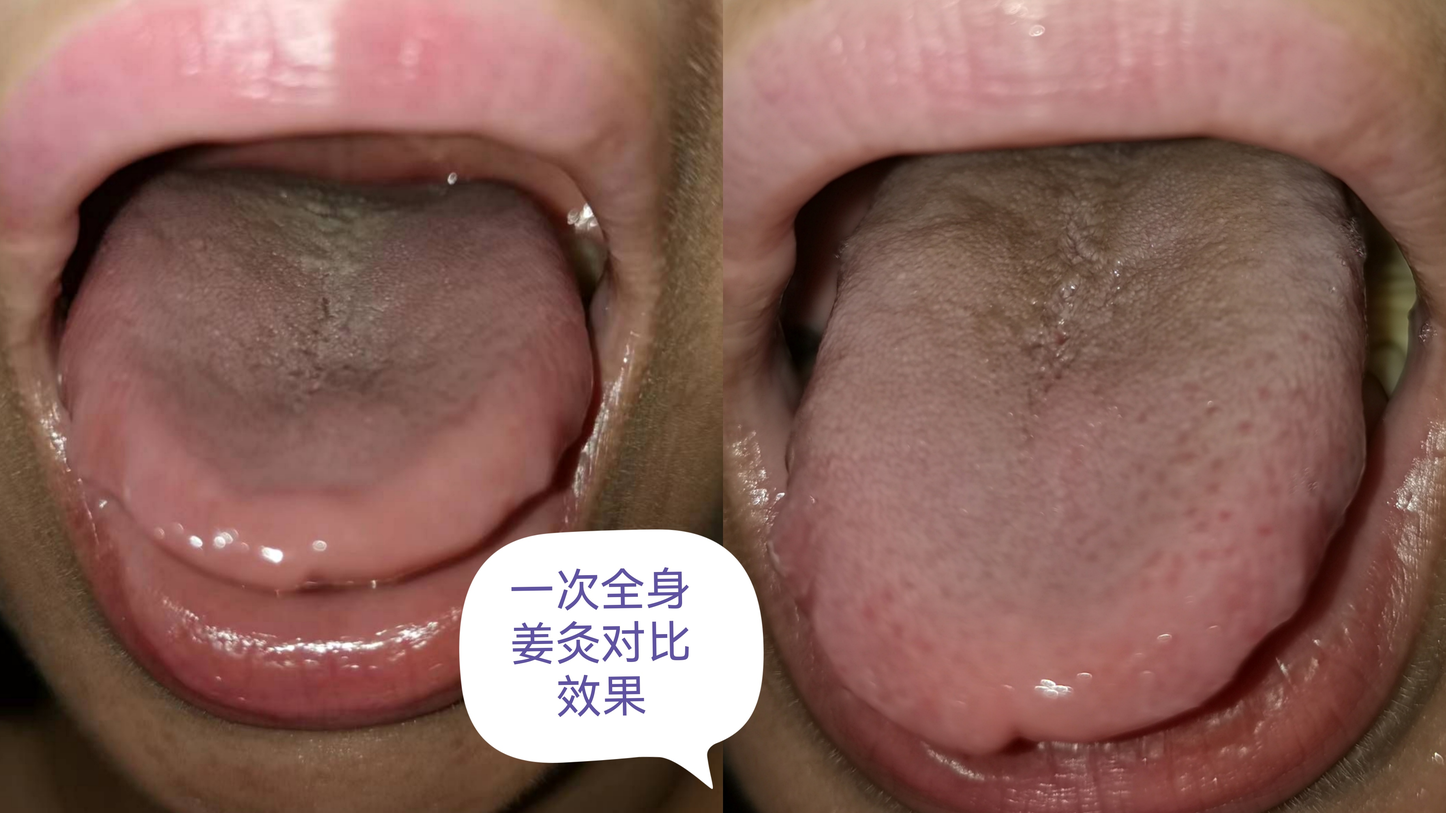baitaishe: (56, 170, 593, 588)
hongdianshe: (1250, 519, 1275, 544)
huangtaishe: (770, 137, 1364, 751)
piweiao: (192, 270, 434, 436)
